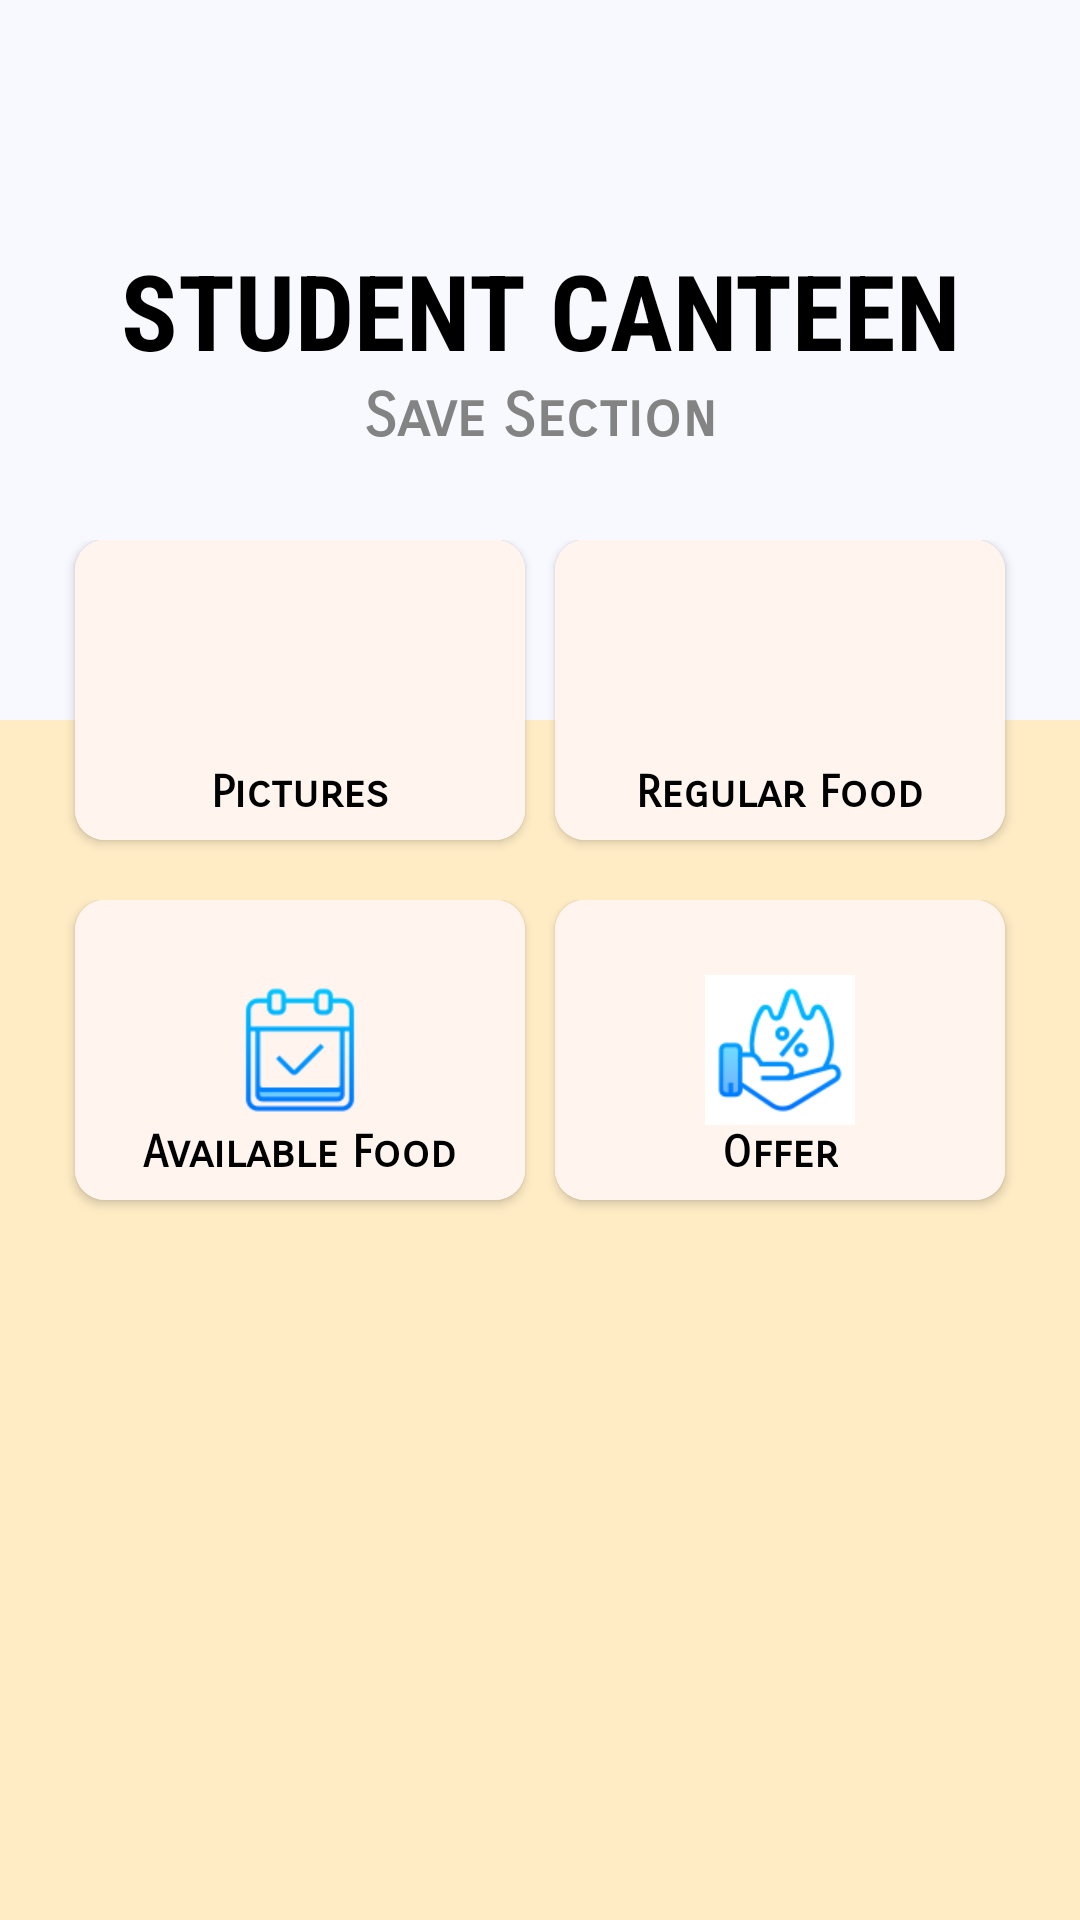

Screen size 1080x1920. Icon name, then its box in pixels as (x1, y1, x2, y2):
today: (245, 988, 355, 1112)
